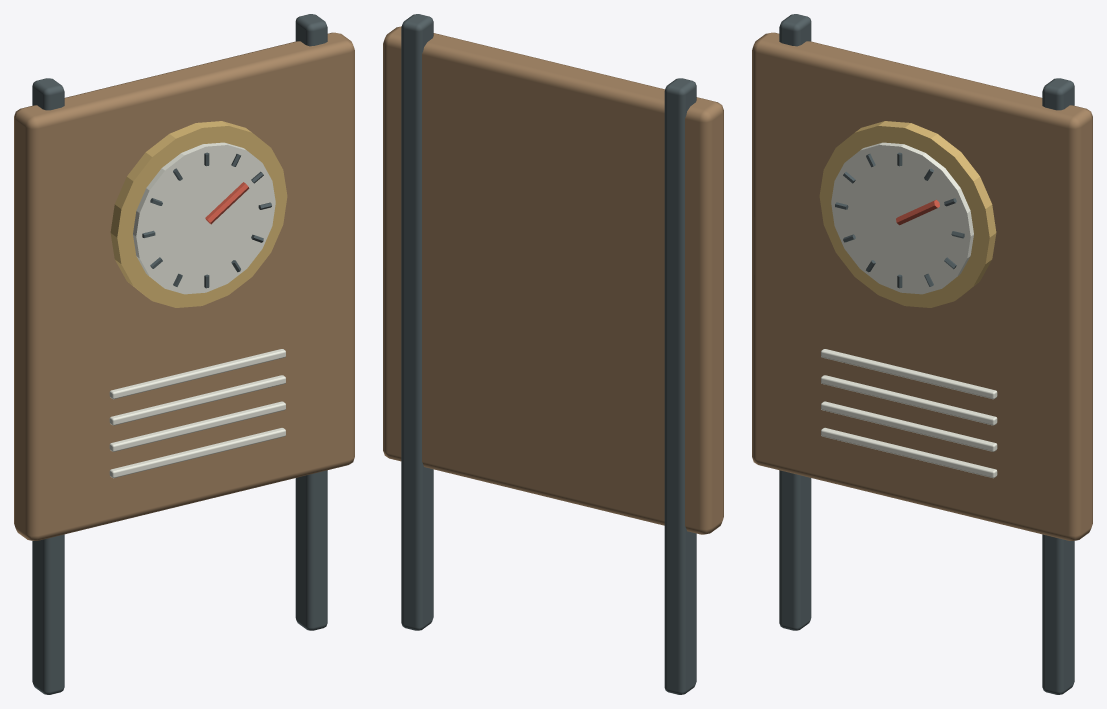
The model's file is castaway-island-escape-tide-clock-board-a4bdf129__28065.glb.
The picture shows the model from 3 angles, left to right: view 1: azimuth 30°, elevation 25°; view 2: azimuth 150°, elevation 25°; view 3: azimuth 330°, elevation 25°; orthographic projection.
Parts seen in each view (by area): view 1: tide-clock-board-wood, tide-clock-board-ivory, tide-clock-board-iron, tide-clock-board-brass; view 2: tide-clock-board-wood, tide-clock-board-iron; view 3: tide-clock-board-wood, tide-clock-board-ivory, tide-clock-board-iron, tide-clock-board-brass.
Boxes of the visible parts, x1,y1,x2,y2 form: tide-clock-board-wood: (14, 32, 354, 540); tide-clock-board-ivory: (109, 142, 285, 478); tide-clock-board-iron: (32, 14, 327, 694); tide-clock-board-brass: (110, 121, 287, 307); tide-clock-board-wood: (383, 26, 723, 534); tide-clock-board-iron: (401, 14, 696, 694); tide-clock-board-wood: (752, 32, 1092, 540); tide-clock-board-ivory: (821, 142, 997, 478); tide-clock-board-iron: (779, 14, 1074, 694); tide-clock-board-brass: (819, 121, 996, 307).
Size of the model in its own units: 0.85 by 1.5 by 0.171.
